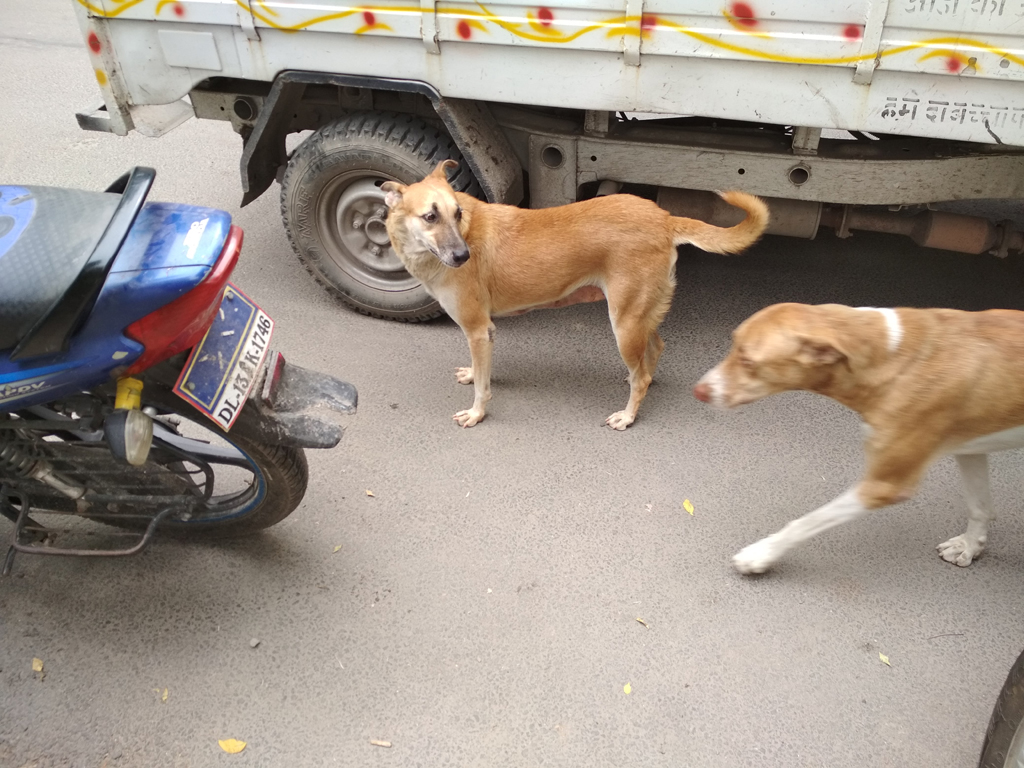dog: (379, 161, 769, 429), (696, 304, 1024, 574)
